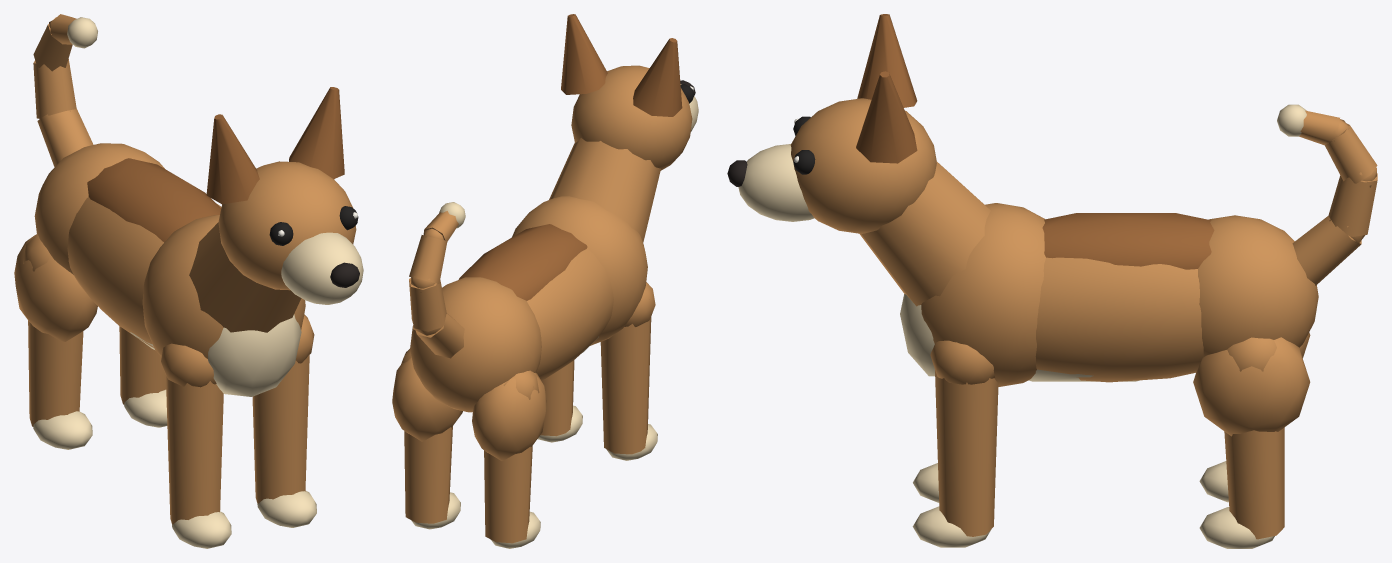
File: pet_dog_tan.glb
3 views of the same model, side by side, from view 1: azimuth 30°, elevation 25°; view 2: azimuth 150°, elevation 25°; view 3: azimuth 270°, elevation 25° (orthographic). The views are drawn at different scales.
Parts seen in each view (by area): view 1: body, head, leg_br, leg_fr, leg_fl, tail, leg_bl; view 2: body, head, leg_br, leg_bl, leg_fr, tail, leg_fl; view 3: body, head, leg_bl, leg_fl, tail, leg_br.
Boxes of the visible parts, box(x1,y1,x2,y2) form: body: box(34, 143, 305, 396); head: box(189, 87, 363, 332); leg_br: box(14, 234, 97, 449); leg_fr: box(161, 343, 231, 548); leg_fl: box(252, 314, 316, 527); tail: box(33, 14, 97, 167); leg_bl: box(119, 326, 167, 427); body: box(410, 196, 647, 412); head: box(549, 14, 698, 242); leg_br: box(472, 370, 546, 548); leg_bl: box(392, 349, 462, 529); leg_fr: box(600, 282, 657, 460); tail: box(409, 202, 465, 358); leg_fl: box(537, 360, 582, 442); body: box(900, 203, 1318, 386); head: box(727, 14, 990, 306); leg_bl: box(1193, 337, 1310, 548); leg_fl: box(912, 340, 998, 547); tail: box(1277, 104, 1377, 285); leg_br: box(1199, 332, 1310, 502).
Size of the model in its own units: 0.2044 by 0.5683 by 0.6986.
